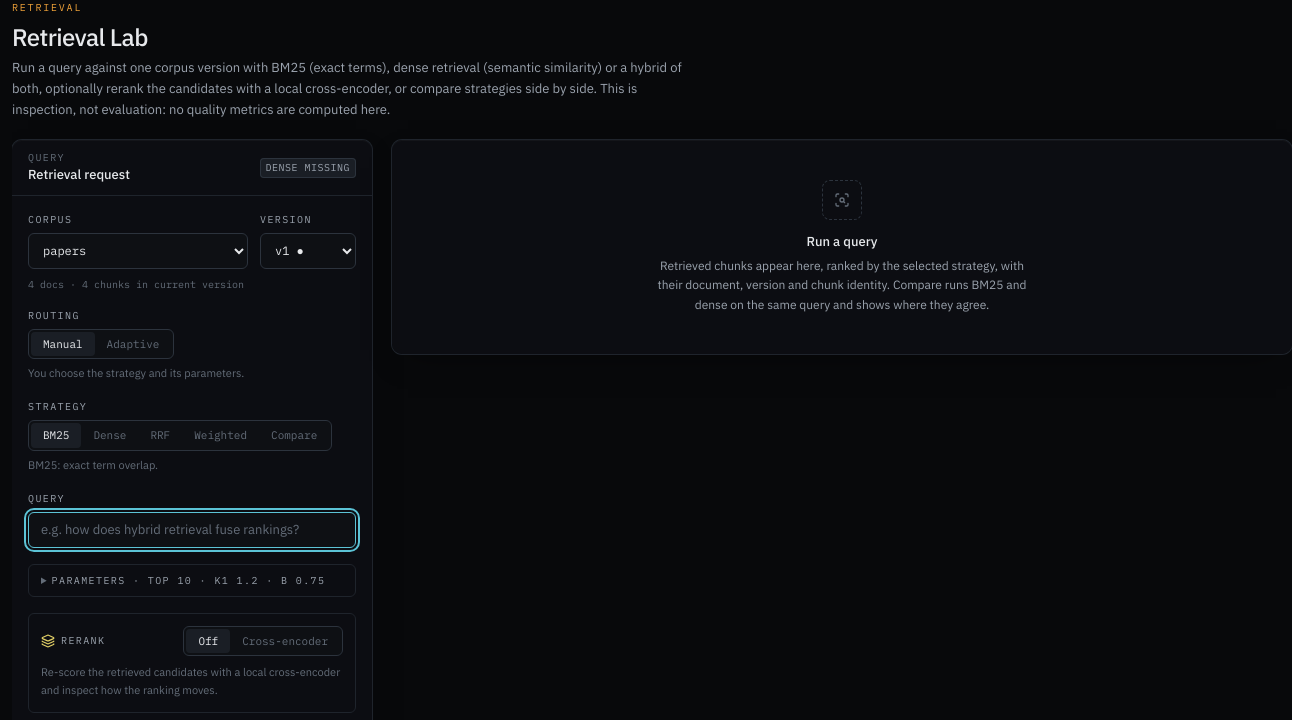
Test case: Retrieval Lab reranking › blocks a pool smaller than the final top k and keeps compare unreranked
Click the radio button labelled "Cross-encoder".
click(285, 641)  # box [242,634,328,648]
(page scrolled)
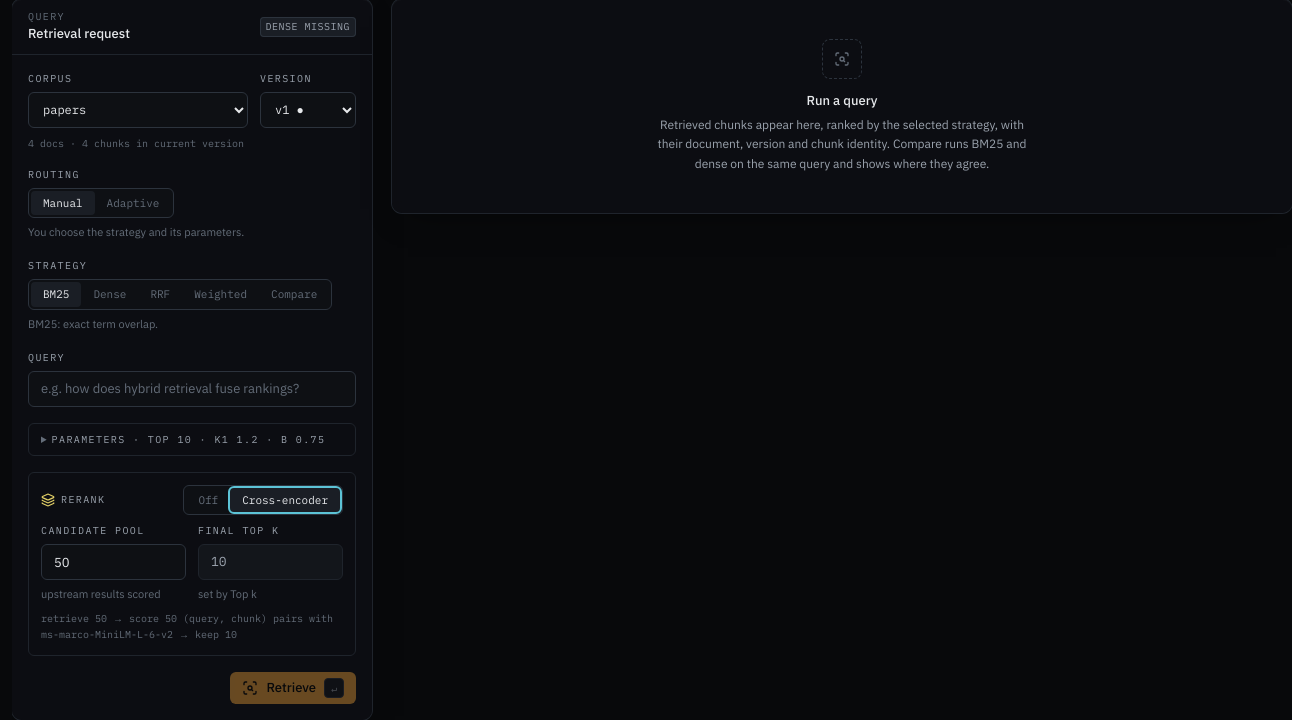
Replace the text in the number field labelled "Candidate pool" with "5" at (114, 562), box [41,544,186,580]
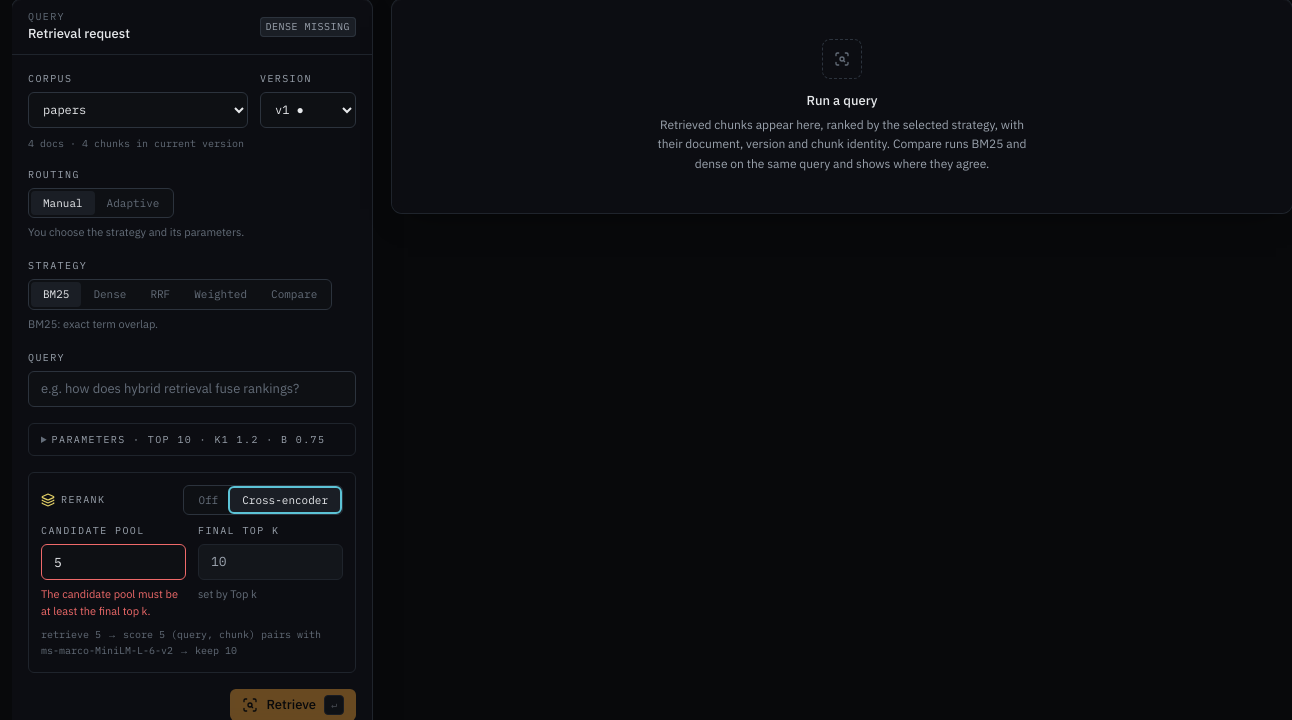
Type "food" into the field labelled "Query".
click(192, 389); type("food")  # box [28,371,356,407]
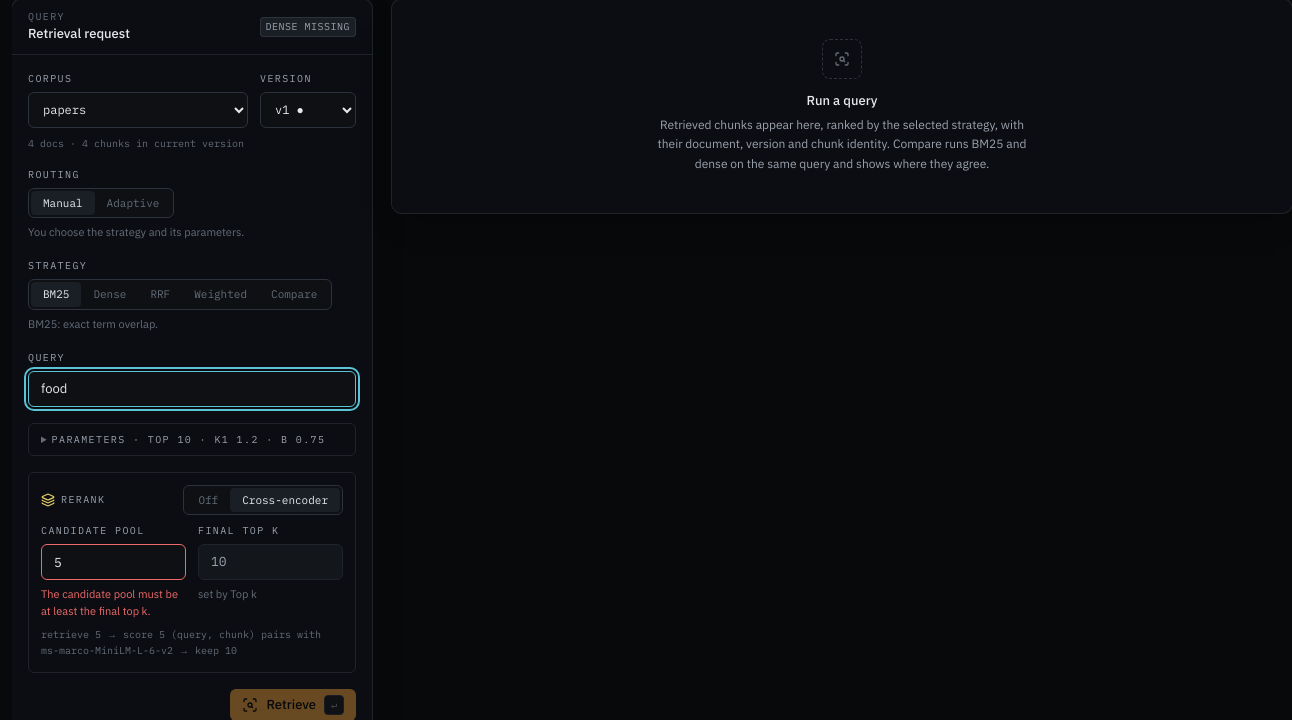
Expected: the button "Retrieve ↵" is disabled, [230,689,356,719]
Now the text "The candidate pool must be at least the final top k." is shown, box [41,586,186,619]
Click the radio button labelled "Compare".
click(294, 294)  # box [271,287,317,301]
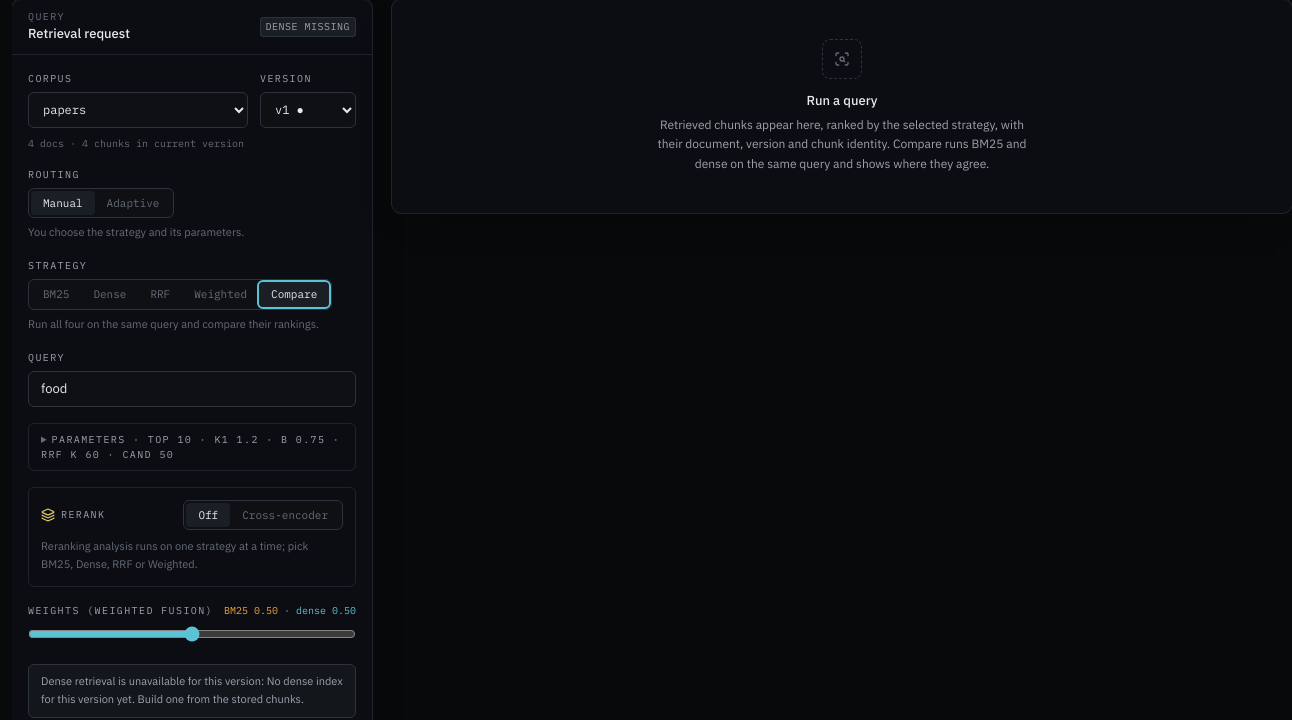
Now the text "runs on one strategy at a time" is shown, box [41,539,308,571]
